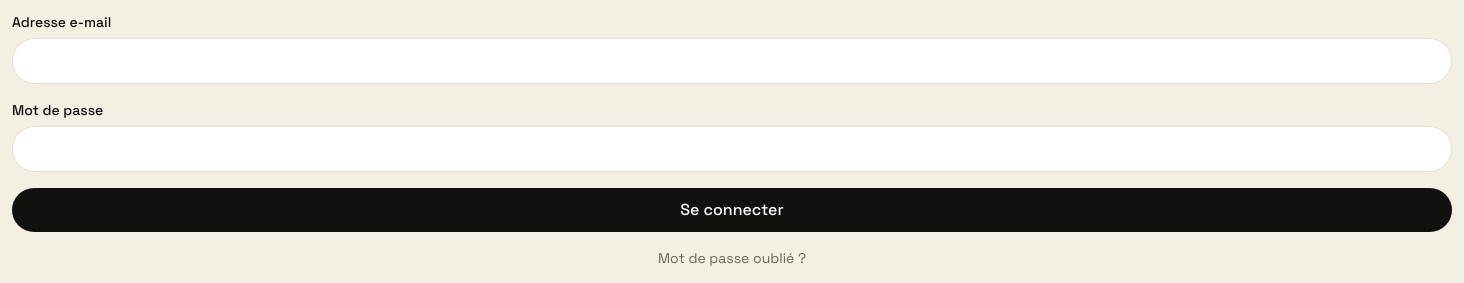
it: LoginForm › disables the button while the request is in flight
Type "a@b.fr" into the field labelled "Adresse e-mail" at (732, 61), box x1=12 y1=38 x2=1452 y2=84
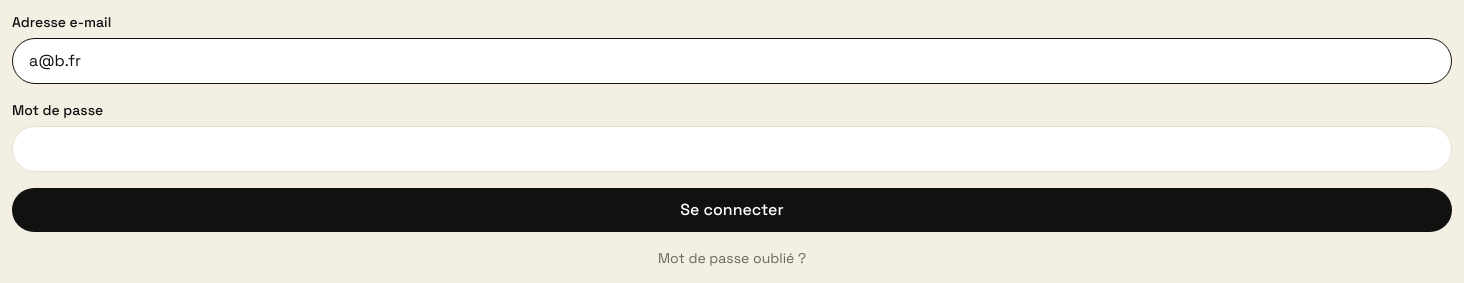
Type "x" into the password field labelled "Mot de passe" at (732, 149), box x1=12 y1=126 x2=1452 y2=172
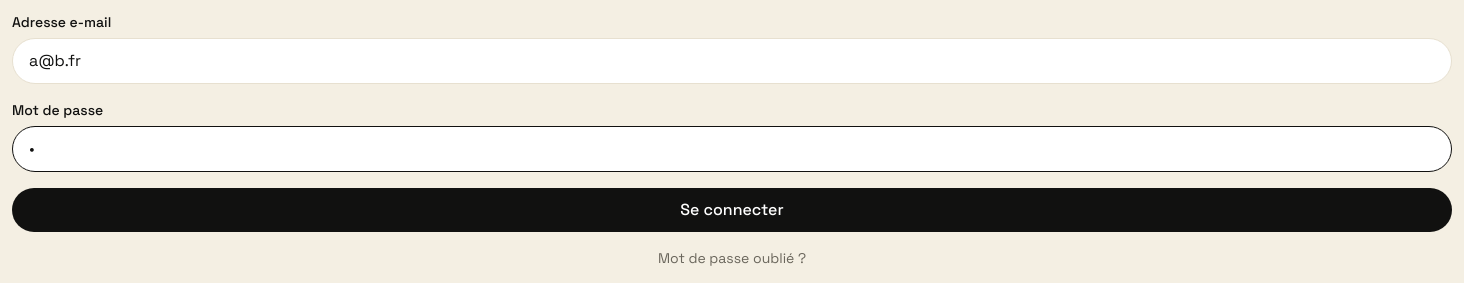
Click the button "Se connecter" at (732, 210), box x1=12 y1=188 x2=1452 y2=232
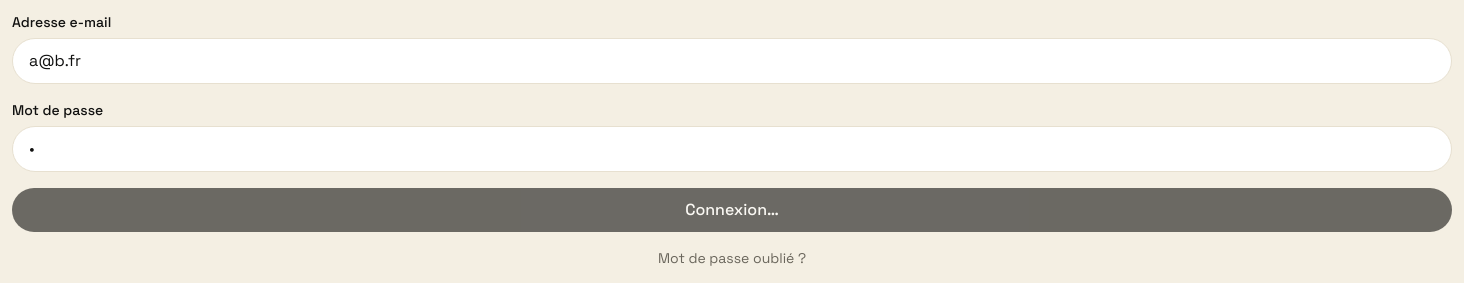
expect the button "Connexion…" is disabled: met, box x1=12 y1=188 x2=1452 y2=232
